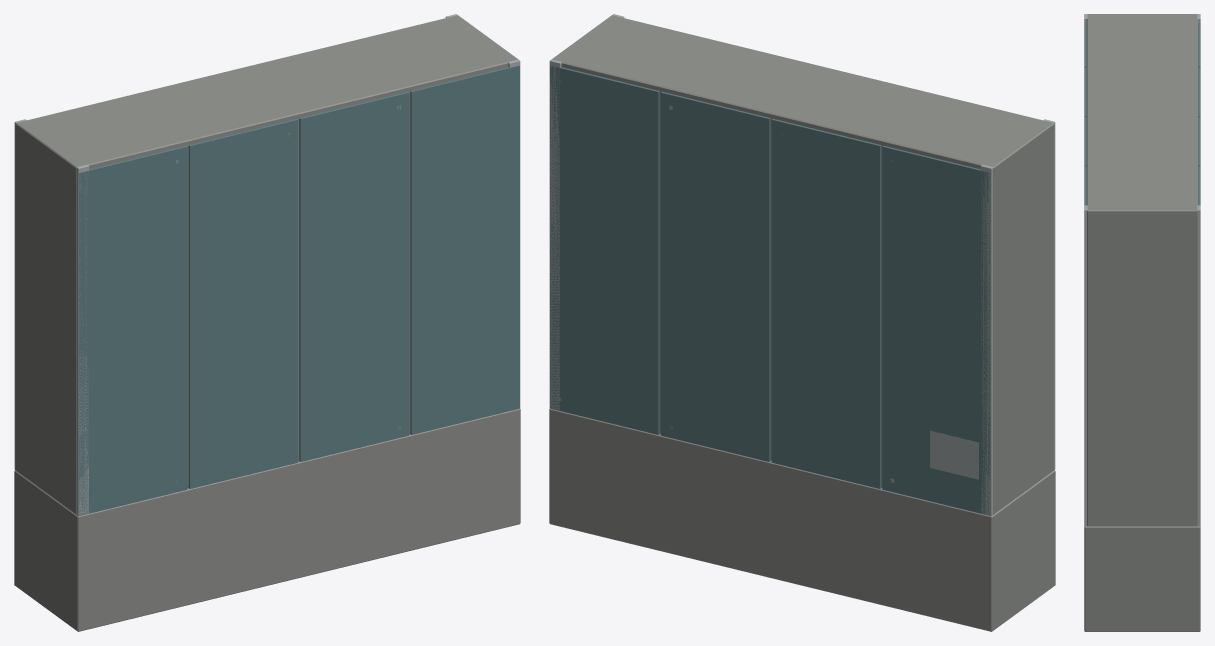
Rendered from industrial_wall_4m.glb.
The picture shows the model from 3 angles, left to right: view 1: azimuth 30°, elevation 25°; view 2: azimuth 150°, elevation 25°; view 3: azimuth 270°, elevation 25°; orthographic projection. The views are drawn at different scales.
Visible parts, largest first — view 1: industrial_wall_4m; view 2: industrial_wall_4m; view 3: industrial_wall_4m.
Boxes of the visible parts, x1,y1,x2,y2 form: industrial_wall_4m: (14,14,520,631); industrial_wall_4m: (549,14,1055,631); industrial_wall_4m: (1084,14,1200,631).
Size of the model in its own units: 4 by 4 by 1.
